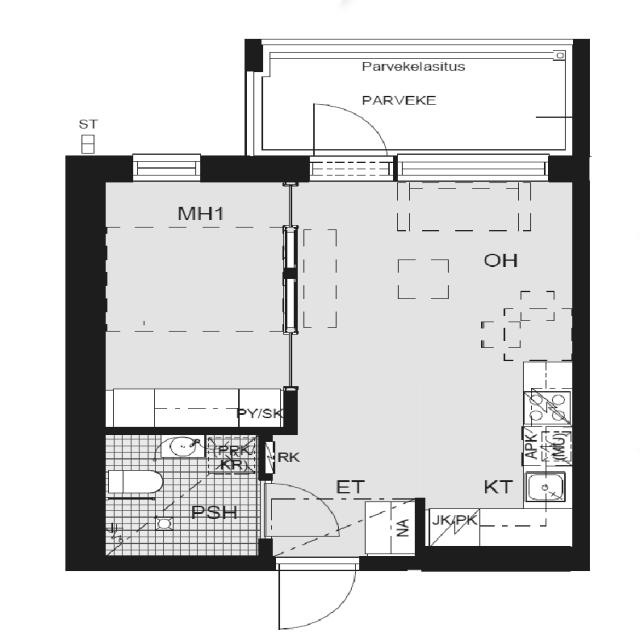door: (306, 97, 399, 170), (272, 558, 363, 632), (261, 485, 339, 544)
window: (393, 155, 548, 175), (115, 151, 195, 181)
zone: (283, 185, 577, 486), (100, 176, 282, 431), (101, 437, 262, 555)
